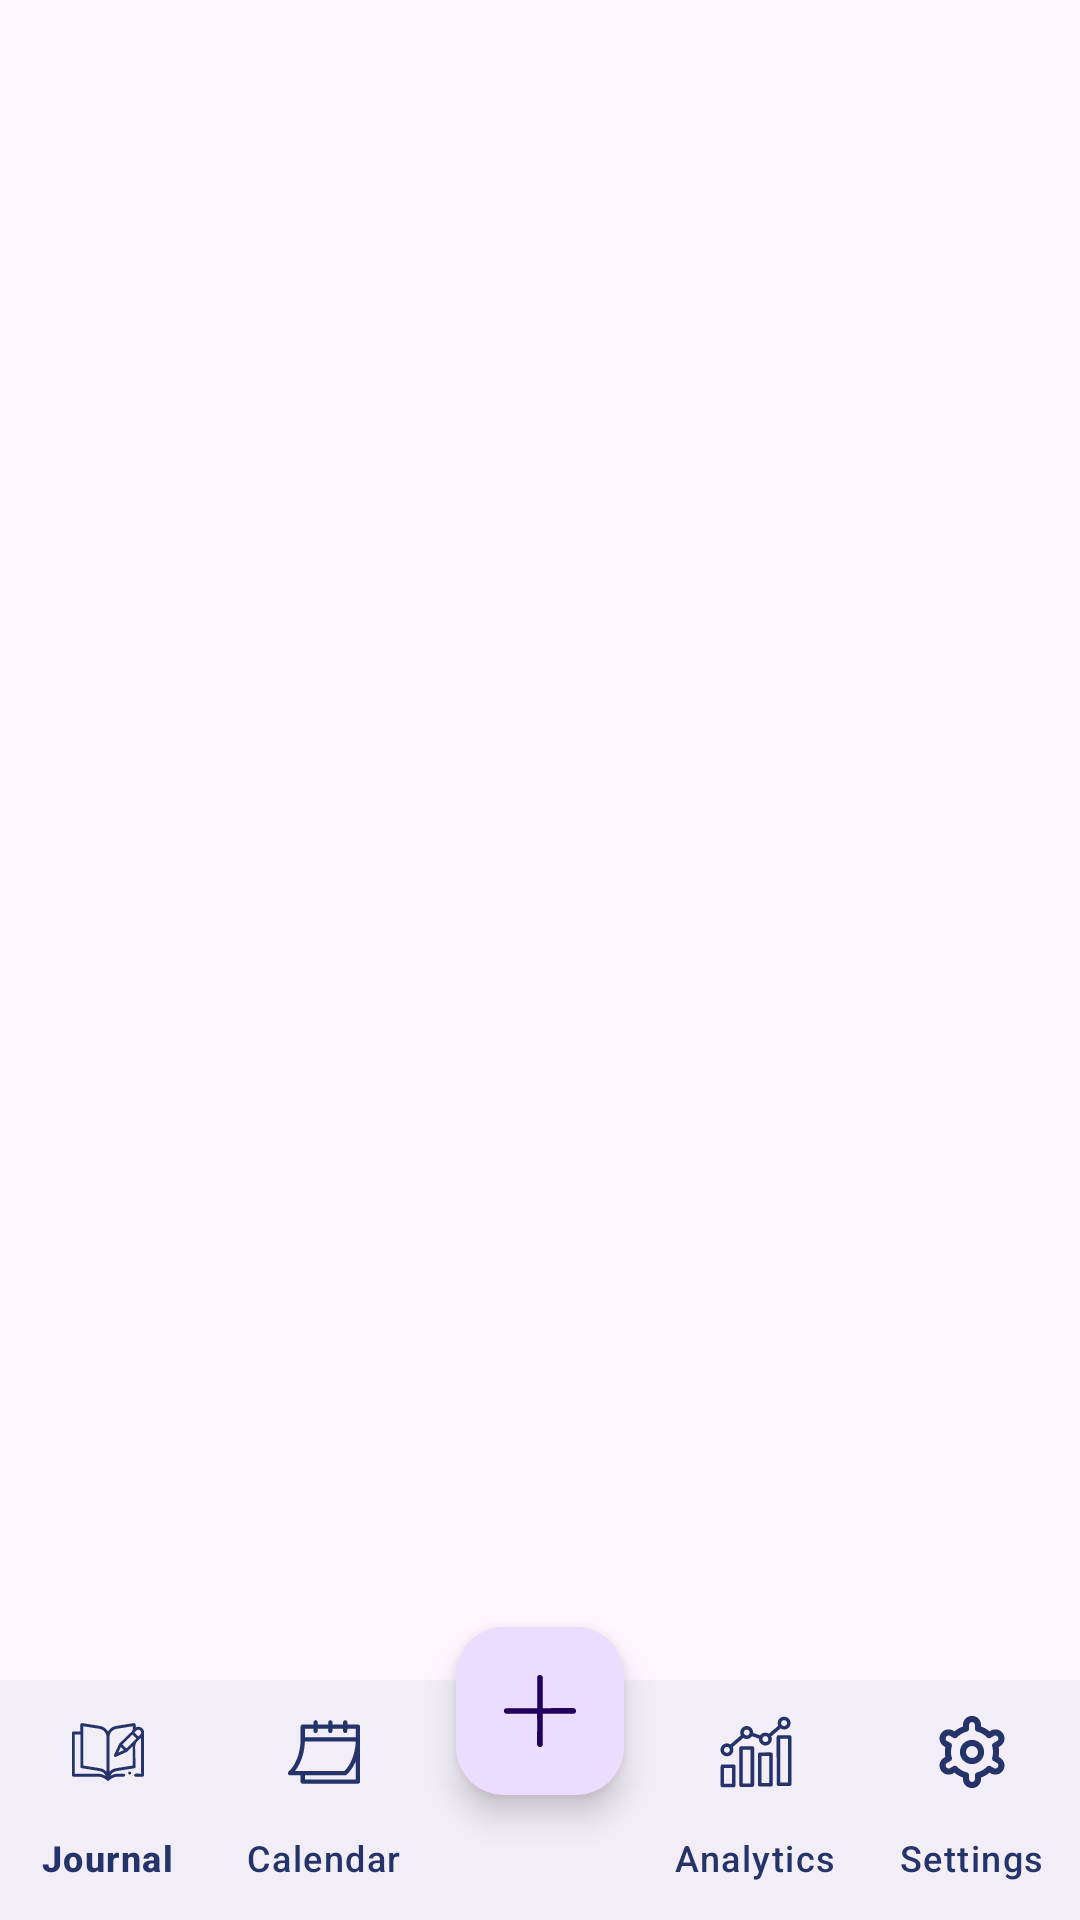

Icon click points for this 1080 x 1920 phone screenshot, format (x,y):
plus: (540,1711)
